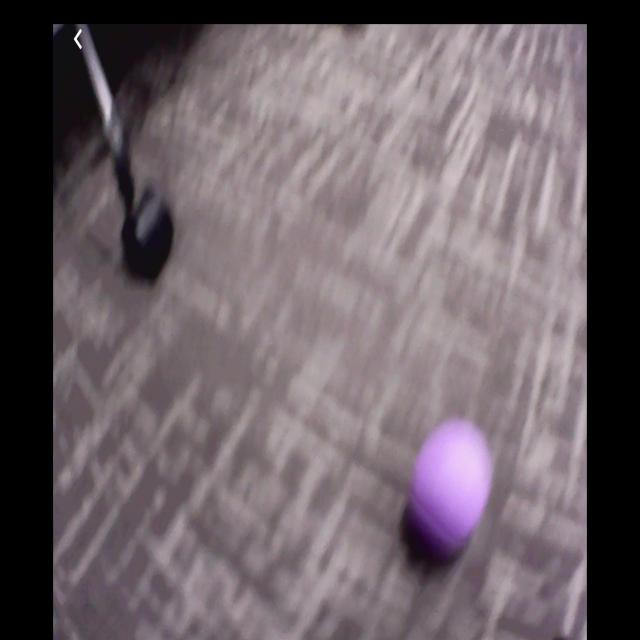ball: (412, 422, 486, 552)
